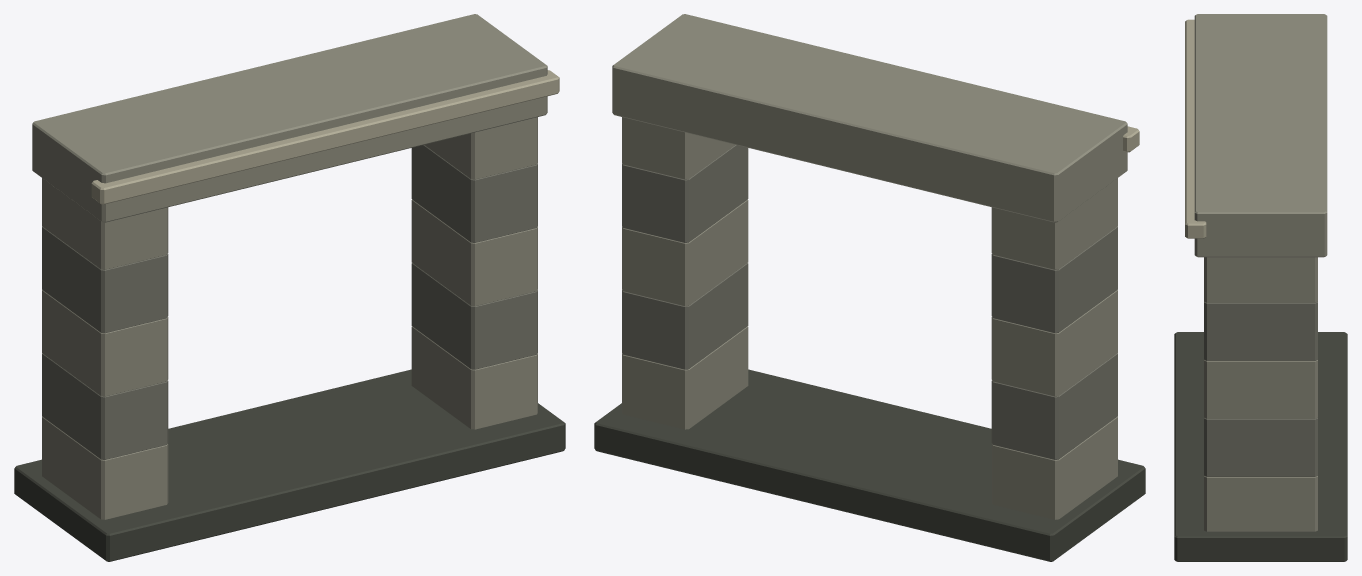
Rendered from carved-gateway.glb.
The picture shows the model from 3 angles, left to right: view 1: azimuth 30°, elevation 25°; view 2: azimuth 150°, elevation 25°; view 3: azimuth 270°, elevation 25°; orthographic projection. The views are drawn at different scales.
Visible parts, largest first — view 1: carved-gateway__body; view 2: carved-gateway__body; view 3: carved-gateway__body.
Part boxes in pixels (<box>): carved-gateway__body: <box>14,14,565,561</box>; carved-gateway__body: <box>594,14,1145,561</box>; carved-gateway__body: <box>1174,14,1347,561</box>.
Size of the model in its own units: 2.05 by 1.62 by 0.73.
